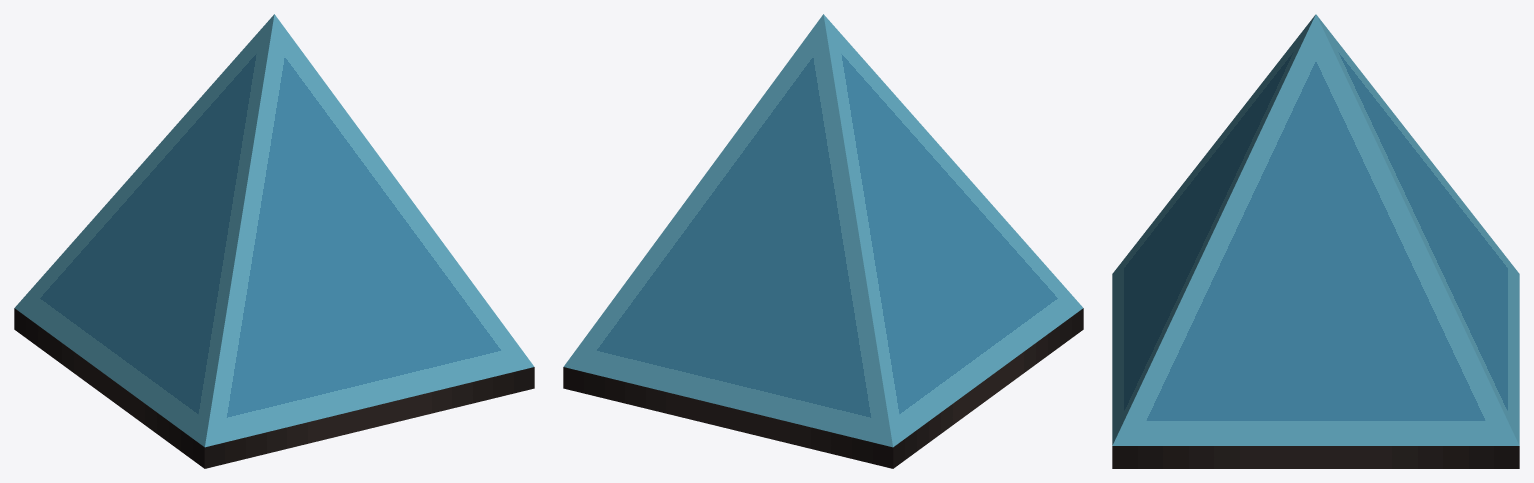
File: prism_square.obj
3 renders of one model, left to right at view 1: azimuth 30°, elevation 25°; view 2: azimuth 150°, elevation 25°; view 3: azimuth 270°, elevation 25°, orthographic. The views are drawn at different scales.
Parts seen in each view (by area): view 1: SQUARE_PRISM_Cube.002, SQUARE_BASE_Cube.001; view 2: SQUARE_PRISM_Cube.002, SQUARE_BASE_Cube.001; view 3: SQUARE_PRISM_Cube.002, SQUARE_BASE_Cube.001.
Part boxes in pixels (box(x1,y1,x2,y2)): SQUARE_PRISM_Cube.002: box(15, 14, 534, 447); SQUARE_BASE_Cube.001: box(14, 308, 534, 468); SQUARE_PRISM_Cube.002: box(563, 14, 1082, 447); SQUARE_BASE_Cube.001: box(563, 308, 1083, 468); SQUARE_PRISM_Cube.002: box(1112, 14, 1519, 445); SQUARE_BASE_Cube.001: box(1112, 446, 1519, 468).
Size of the model in its own units: 1 by 1 by 1.
